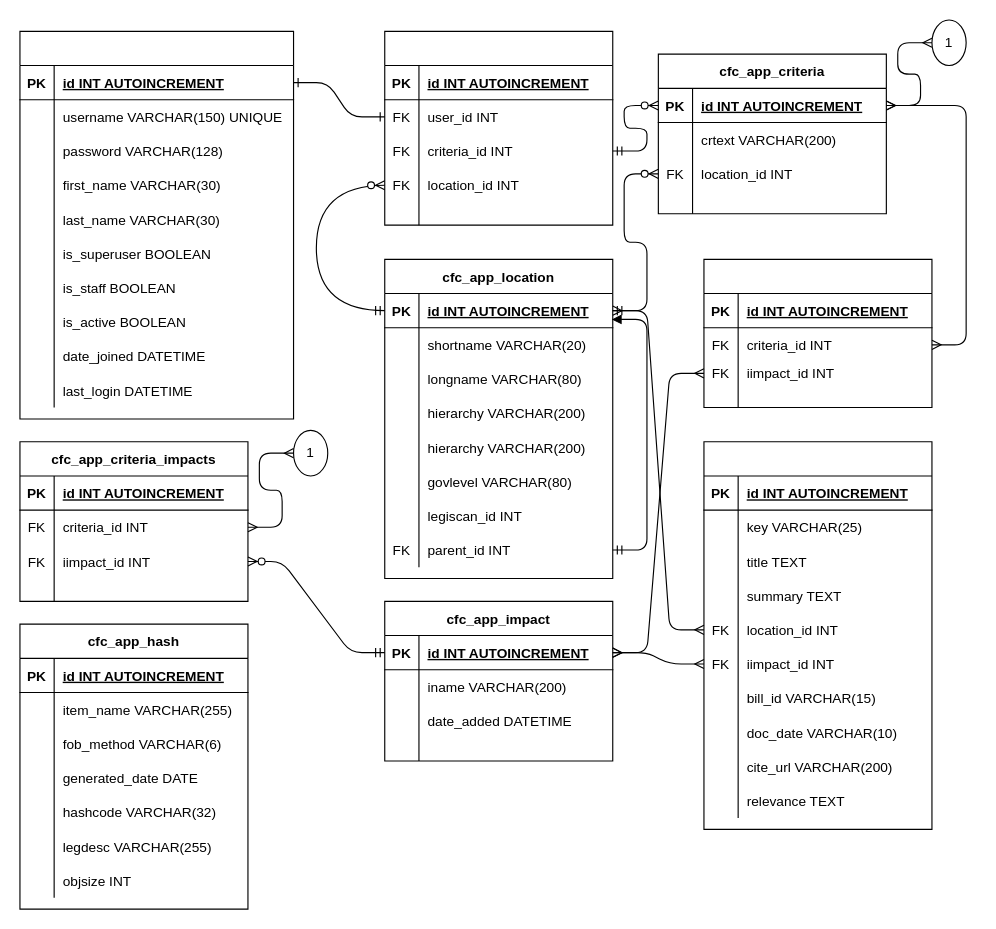
This 996x929 diagram has some shape labels left out. The box of each missing label's shape, as (x1, y1, x2, y2) in pixels:
auth_user: (19, 30, 294, 419)
cfc_app_law: (703, 441, 932, 829)
users_profile: (384, 30, 613, 225)
users_profile_impacts: (703, 258, 932, 408)
